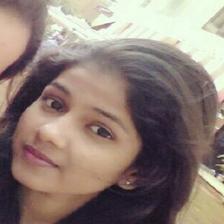no_mask: (10, 69, 131, 193)
